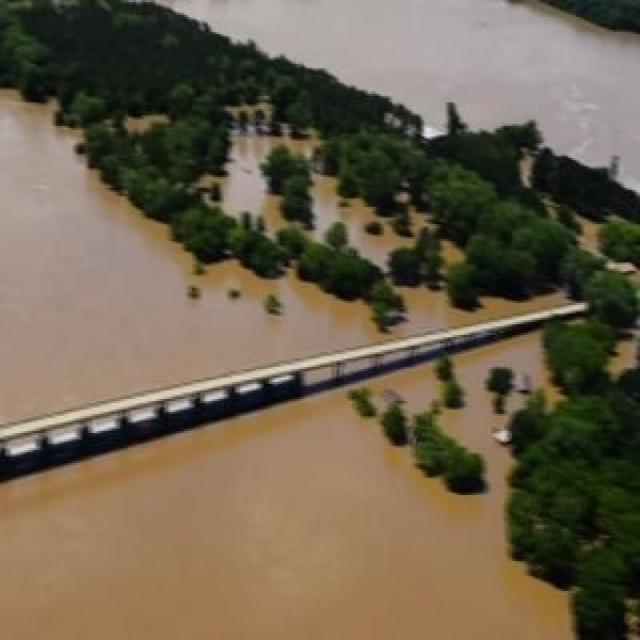flooded_areas: (0, 0, 638, 548)
